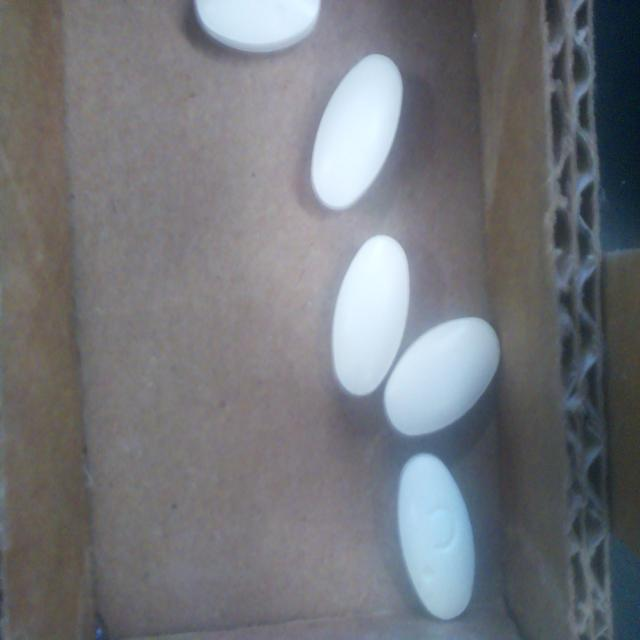pill: (311, 54, 403, 210), (384, 317, 500, 436), (397, 454, 475, 620), (332, 236, 409, 391), (194, 0, 320, 53)
